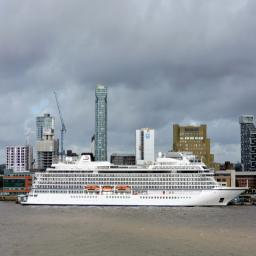cruises: (15, 150, 253, 210)
